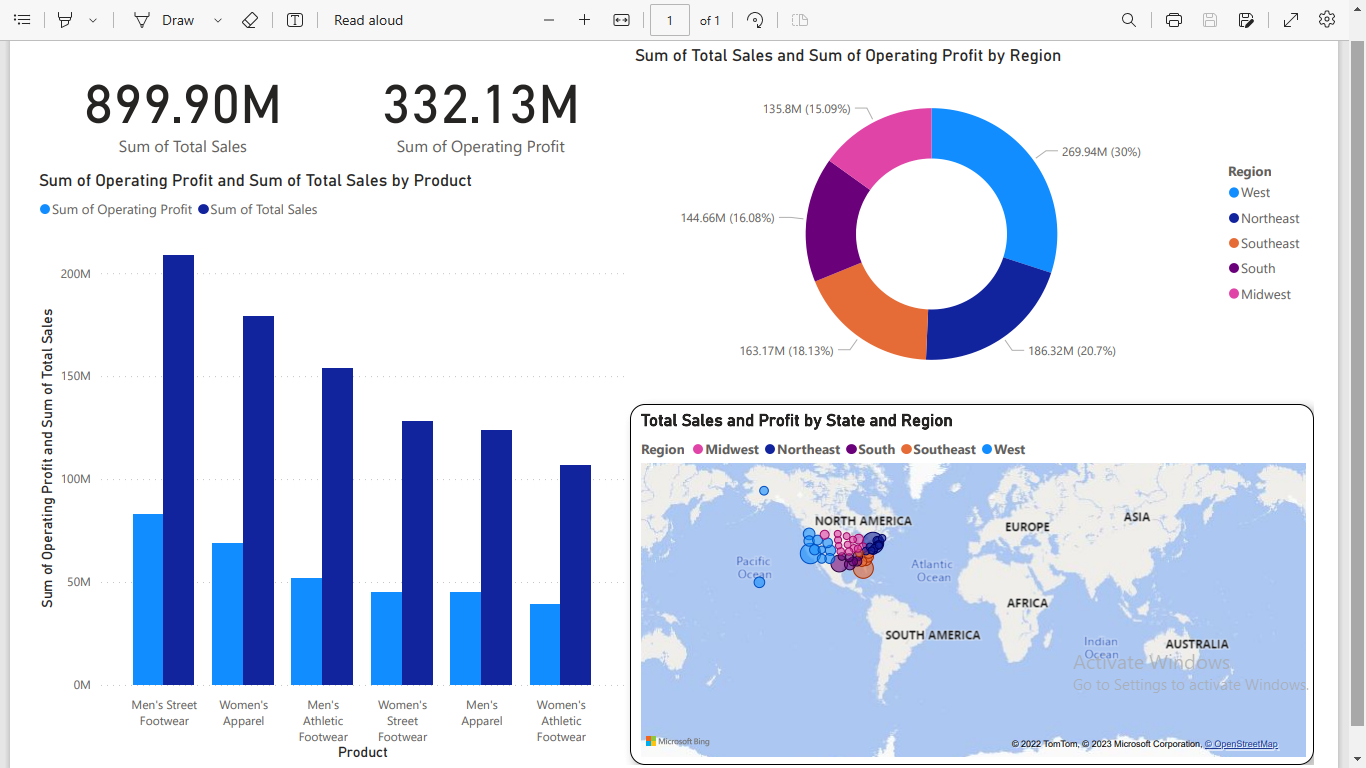

What the dashboard file says about the page in this screenshot:
{"tool":"powerbi","page":{"name":"Page 1","canvas":[1280,720],"ordinal":0},"visuals":[{"type":"clusteredColumnChart","fields":{"Category":["Clean.Product"],"Y":["Sum(Clean.Operating Profit)","Sum(Clean.Total Sales)"]},"box":[0,125.3,596.2,594.7],"z":0},{"type":"donutChart","fields":{"Category":["Clean.Region"],"Y":["Sum(Clean.Total Sales)"]},"box":[596.3,0,683.7,359.5],"z":1000},{"type":"map","title":"Total Sales and Profit by State and Region","fields":{"Category":["Clean.State"],"Size":["Sum(Clean.Total Sales)"],"Series":["Clean.Region"]},"box":[596.2,358.6,684,361.4],"z":2000},{"type":"card","fields":{"Values":["Sum(Clean.Total Sales)"]},"box":[0,0,298.1,125.3],"z":2001},{"type":"card","fields":{"Values":["Sum(Clean.Operating Profit)"]},"box":[298.1,0,298.1,125.3],"z":2002}]}

Visuals, with their boxes on the page's 1280x720 design canvas (x1, y1, x2, y2). These are canvas units, not pixel positions in the 1366x768 screenshot, which may show the page scaled, cropped or inside an application window:
clusteredColumnChart - Clean.Product x Sum(Clean.Operating Profit): 0:125:596:720
donutChart - Clean.Region x Sum(Clean.Total Sales): 596:0:1280:360
"Total Sales and Profit by State and Region" map: 596:359:1280:720
card - Sum(Clean.Total Sales): 0:0:298:125
card - Sum(Clean.Operating Profit): 298:0:596:125
